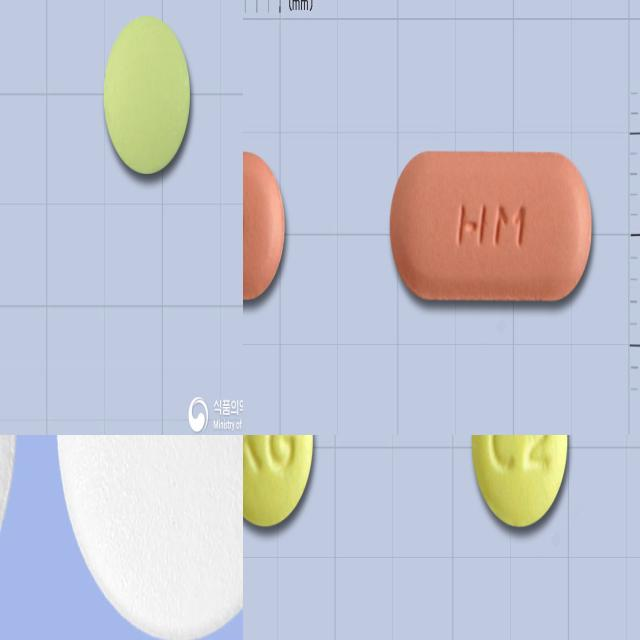Globit: (470, 435, 569, 532), (243, 435, 315, 527)
Imuran: (104, 14, 192, 176)
Moroxacin: (390, 151, 593, 300), (243, 150, 285, 302)
Proxacinby Tab: (57, 435, 243, 640)
